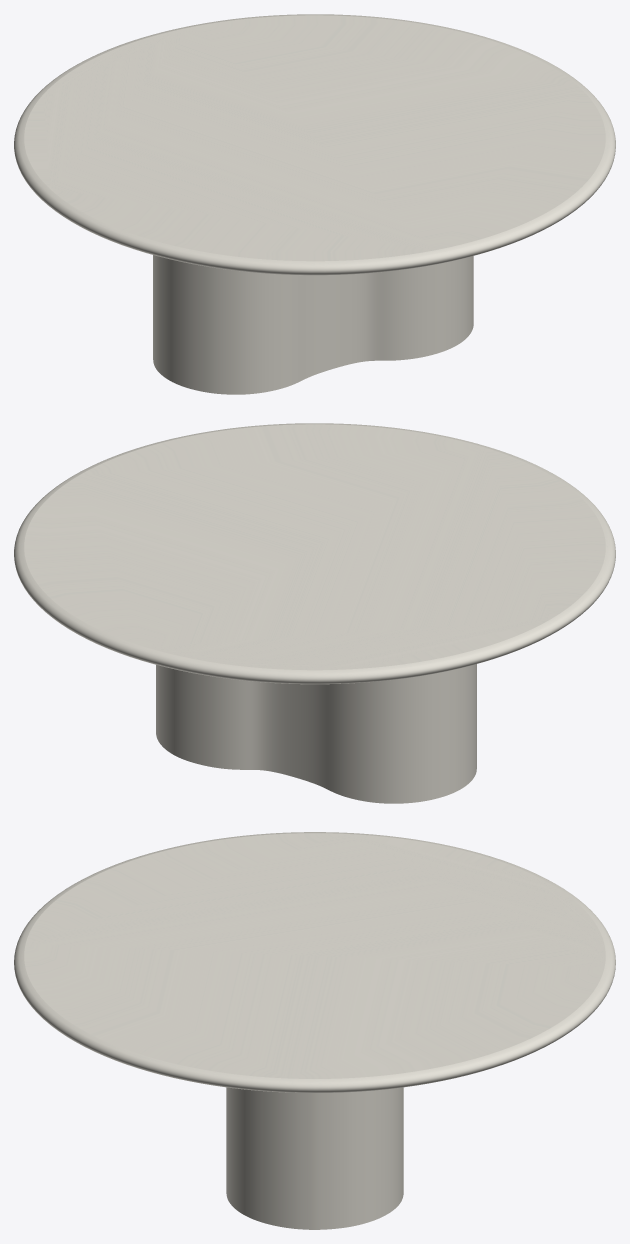
File: pale_round_round_riverwave.glb
3 views of the same model, one above another, from view 1: azimuth 30°, elevation 25°; view 2: azimuth 150°, elevation 25°; view 3: azimuth 270°, elevation 25° (orthographic).
Visible parts, largest first — view 1: round_round, riverwave; view 2: round_round, riverwave; view 3: round_round, riverwave.
Boxes of the visible parts, x1,y1,x2,y2 form: round_round: (14,14,615,275); riverwave: (153,255,473,394); round_round: (14,423,615,684); riverwave: (156,664,476,803); round_round: (14,832,615,1092); riverwave: (226,1087,403,1229).
Size of the model in its own units: 6.75 by 2.5 by 6.75.
Materials: 1 (1 with a texture image).
